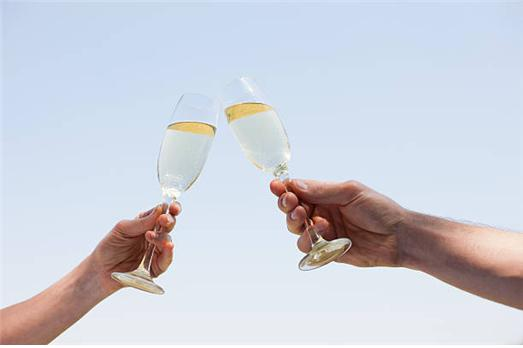alcohol: (217, 76, 351, 272), (111, 92, 219, 296)
